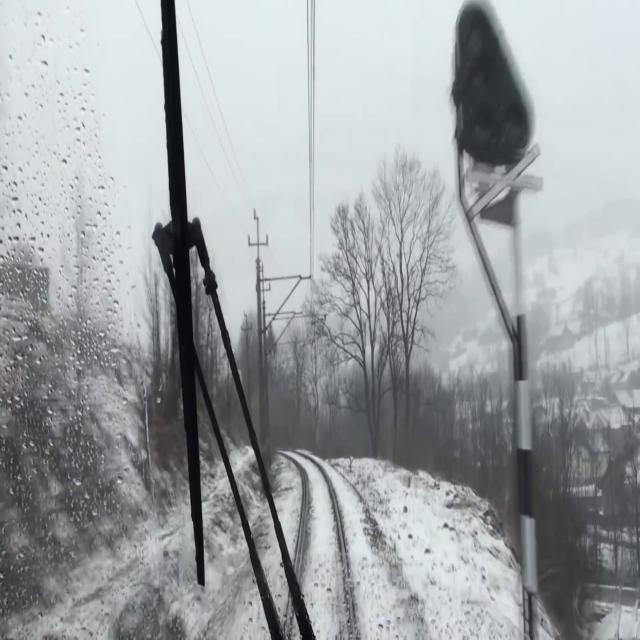rail-track: (297, 457, 350, 636)
